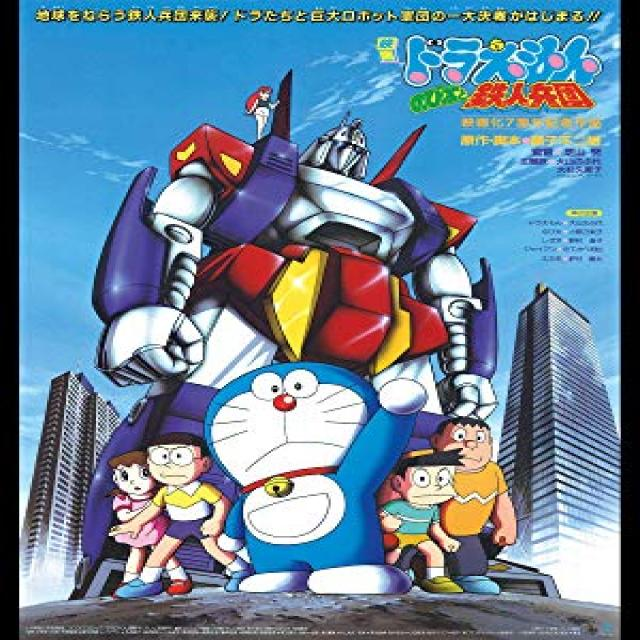doraemon: (198, 352, 420, 525)
jaian: (429, 414, 499, 474)
nobita: (134, 424, 224, 491)
shizuka: (103, 444, 162, 511)
suneo: (382, 444, 465, 518)
